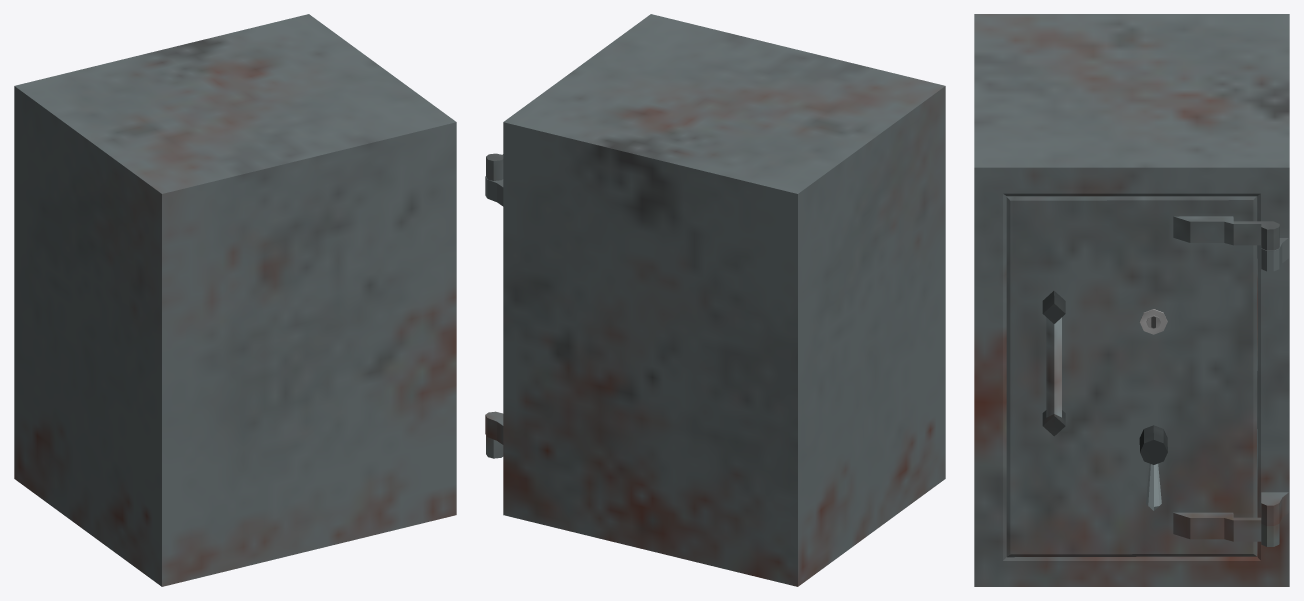
The model's file is Safe.fbx.
3 renders of one model, left to right at view 1: azimuth 30°, elevation 25°; view 2: azimuth 150°, elevation 25°; view 3: azimuth 270°, elevation 25°, orthographic. The views are drawn at different scales.
Visible parts, largest first — view 1: Safe; view 2: Safe, Door; view 3: Door, Safe.
Part boxes in pixels (x1,y1,x2,y2): Safe: [14, 14, 456, 586]; Safe: [485, 14, 945, 586]; Door: [486, 153, 503, 458]; Door: [1006, 196, 1279, 557]; Safe: [974, 14, 1289, 586].
Bounding box in the file's own units: 97.27 × 113 × 77.17.
Materials: 1 (1 with a texture image).
